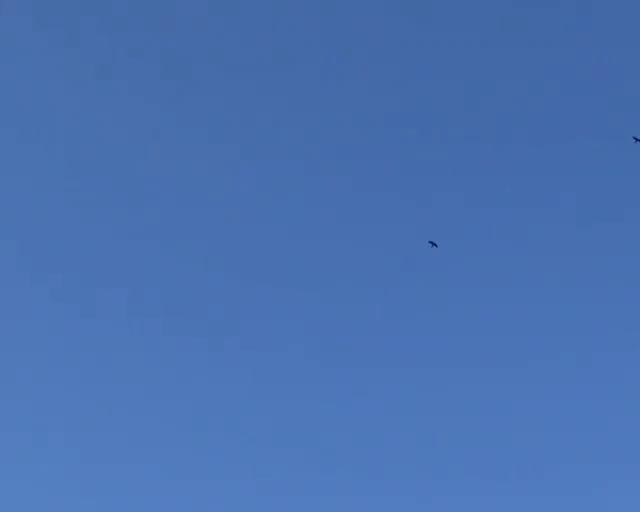BIRD: (428, 240, 438, 247)
